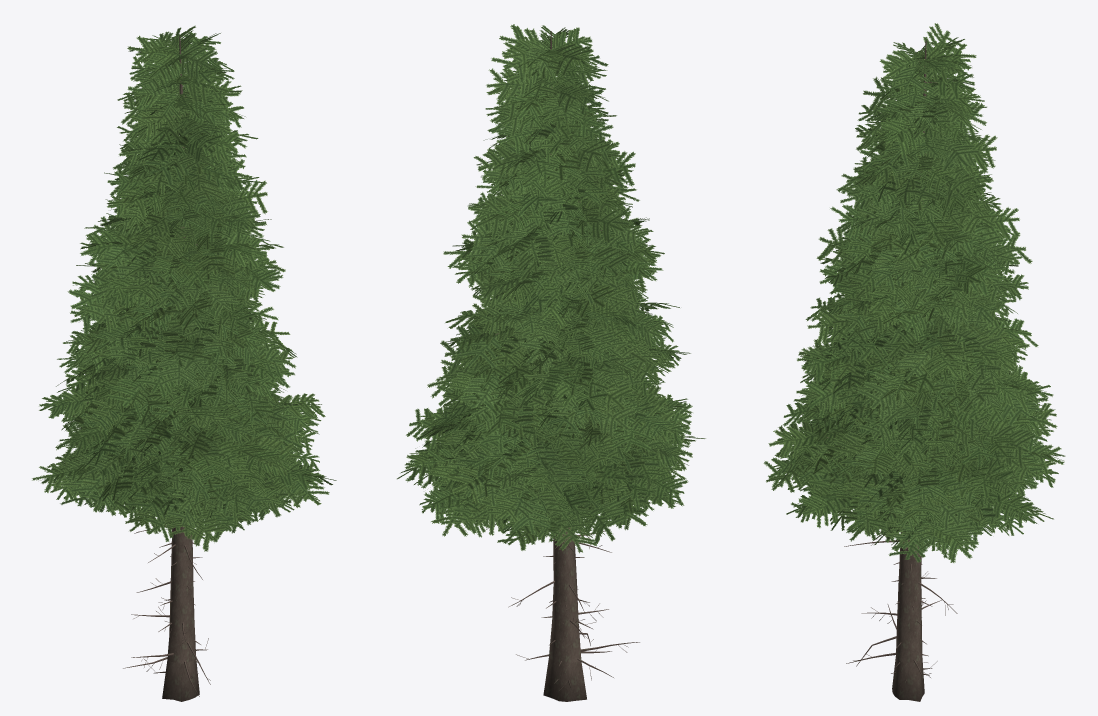
The model's file is smrk_stary.glb.
The picture shows the model from 3 angles, left to right: view 1: azimuth 30°, elevation 25°; view 2: azimuth 150°, elevation 25°; view 3: azimuth 270°, elevation 25°; orthographic projection. The views are drawn at different scales.
Visible parts, largest first — view 1: smrk_stary; view 2: smrk_stary; view 3: smrk_stary.
Part boxes in pixels (bbox=[...]): smrk_stary: bbox=[32, 25, 336, 701]; smrk_stary: bbox=[397, 24, 705, 701]; smrk_stary: bbox=[763, 23, 1065, 701].
Size of the model in its own units: 10.77 by 22.49 by 10.42.
Materials: 2 (2 with a texture image).
